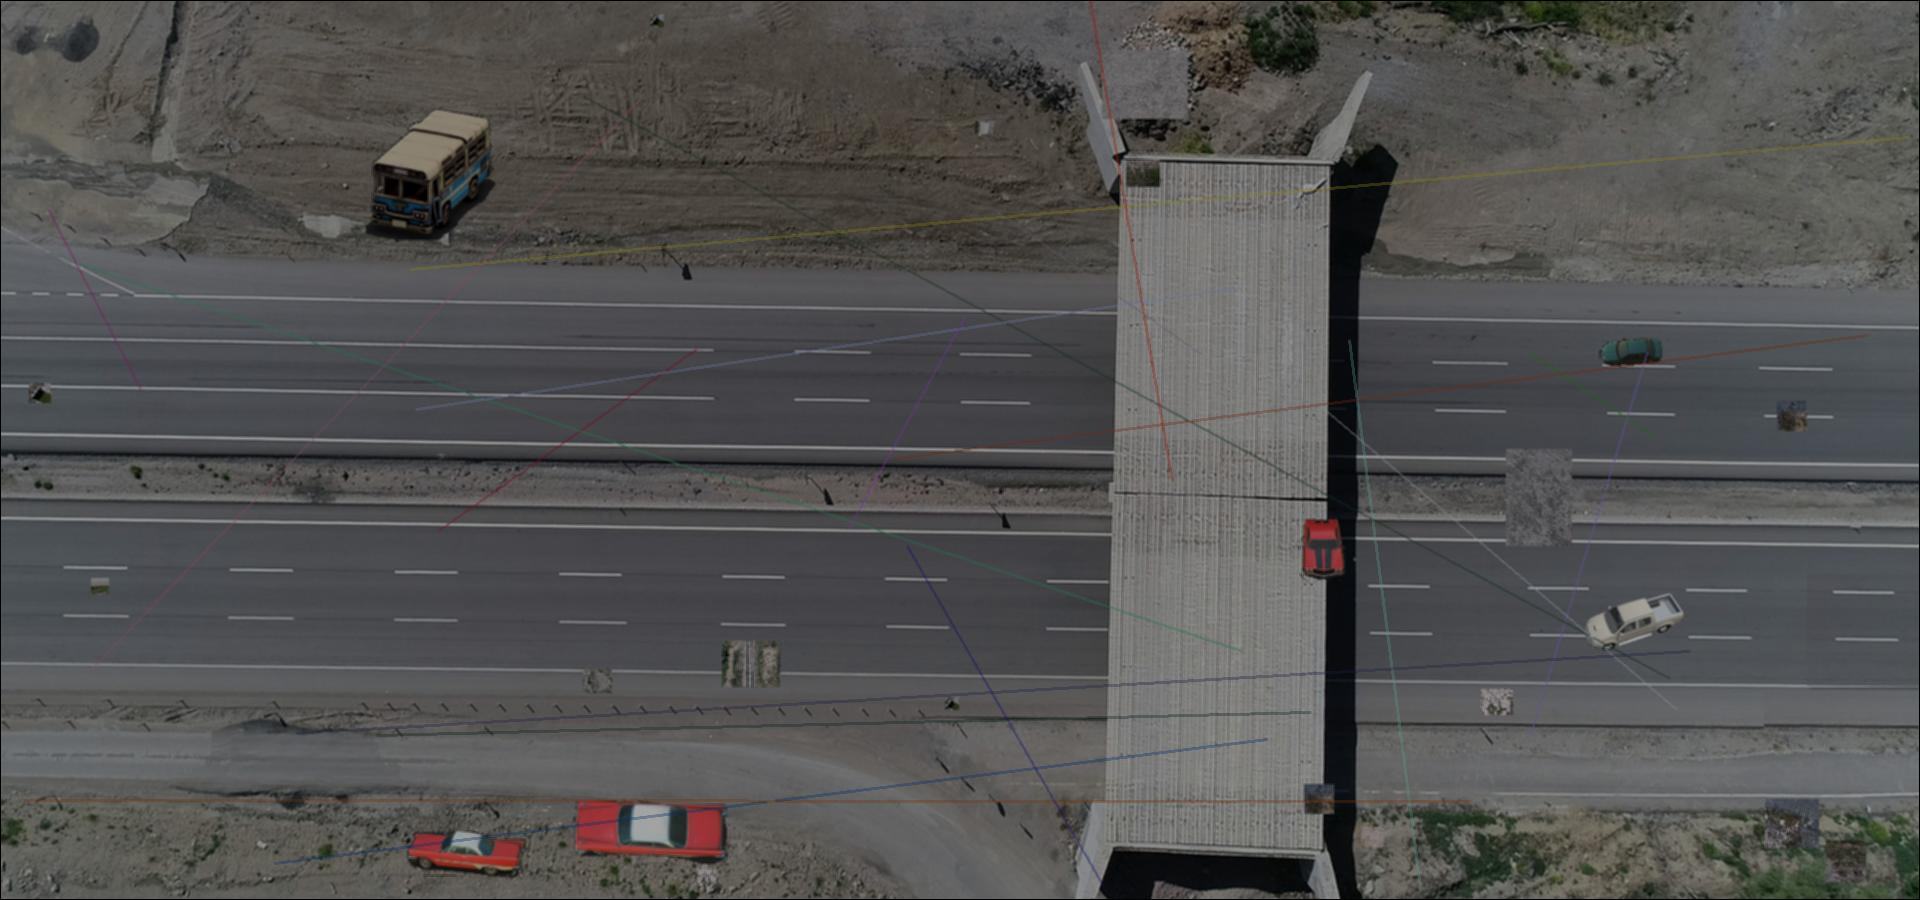arac: (366, 108, 496, 240), (573, 798, 733, 864), (1584, 593, 1686, 650), (407, 831, 529, 877), (1299, 517, 1348, 582), (1599, 337, 1662, 366)
